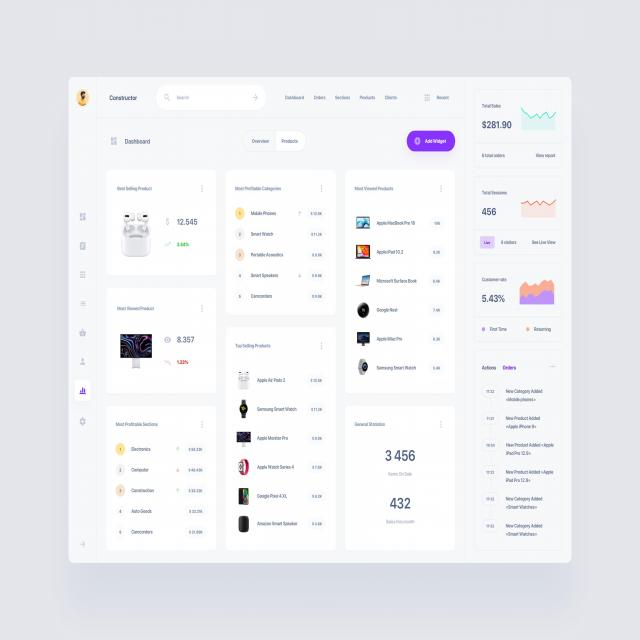button: (406, 130, 456, 151)
input: (156, 85, 267, 112), (242, 129, 306, 152)
